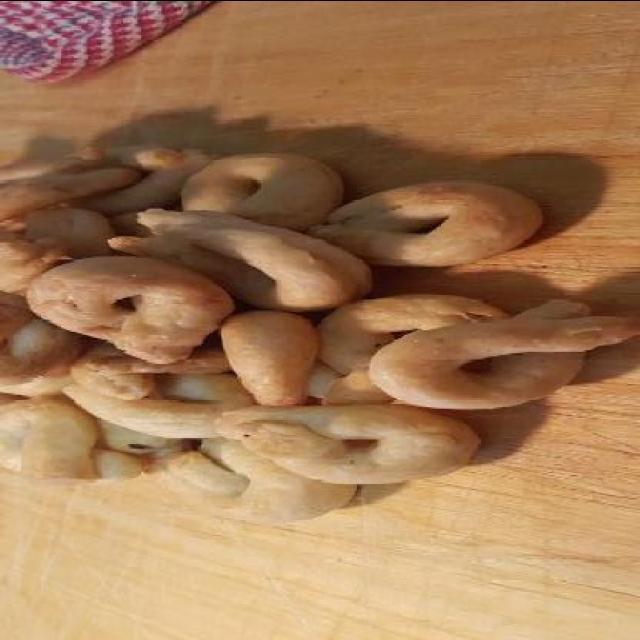Taralli: (2, 144, 600, 527)
